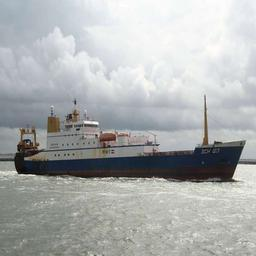Ship: (14, 106, 247, 186)
